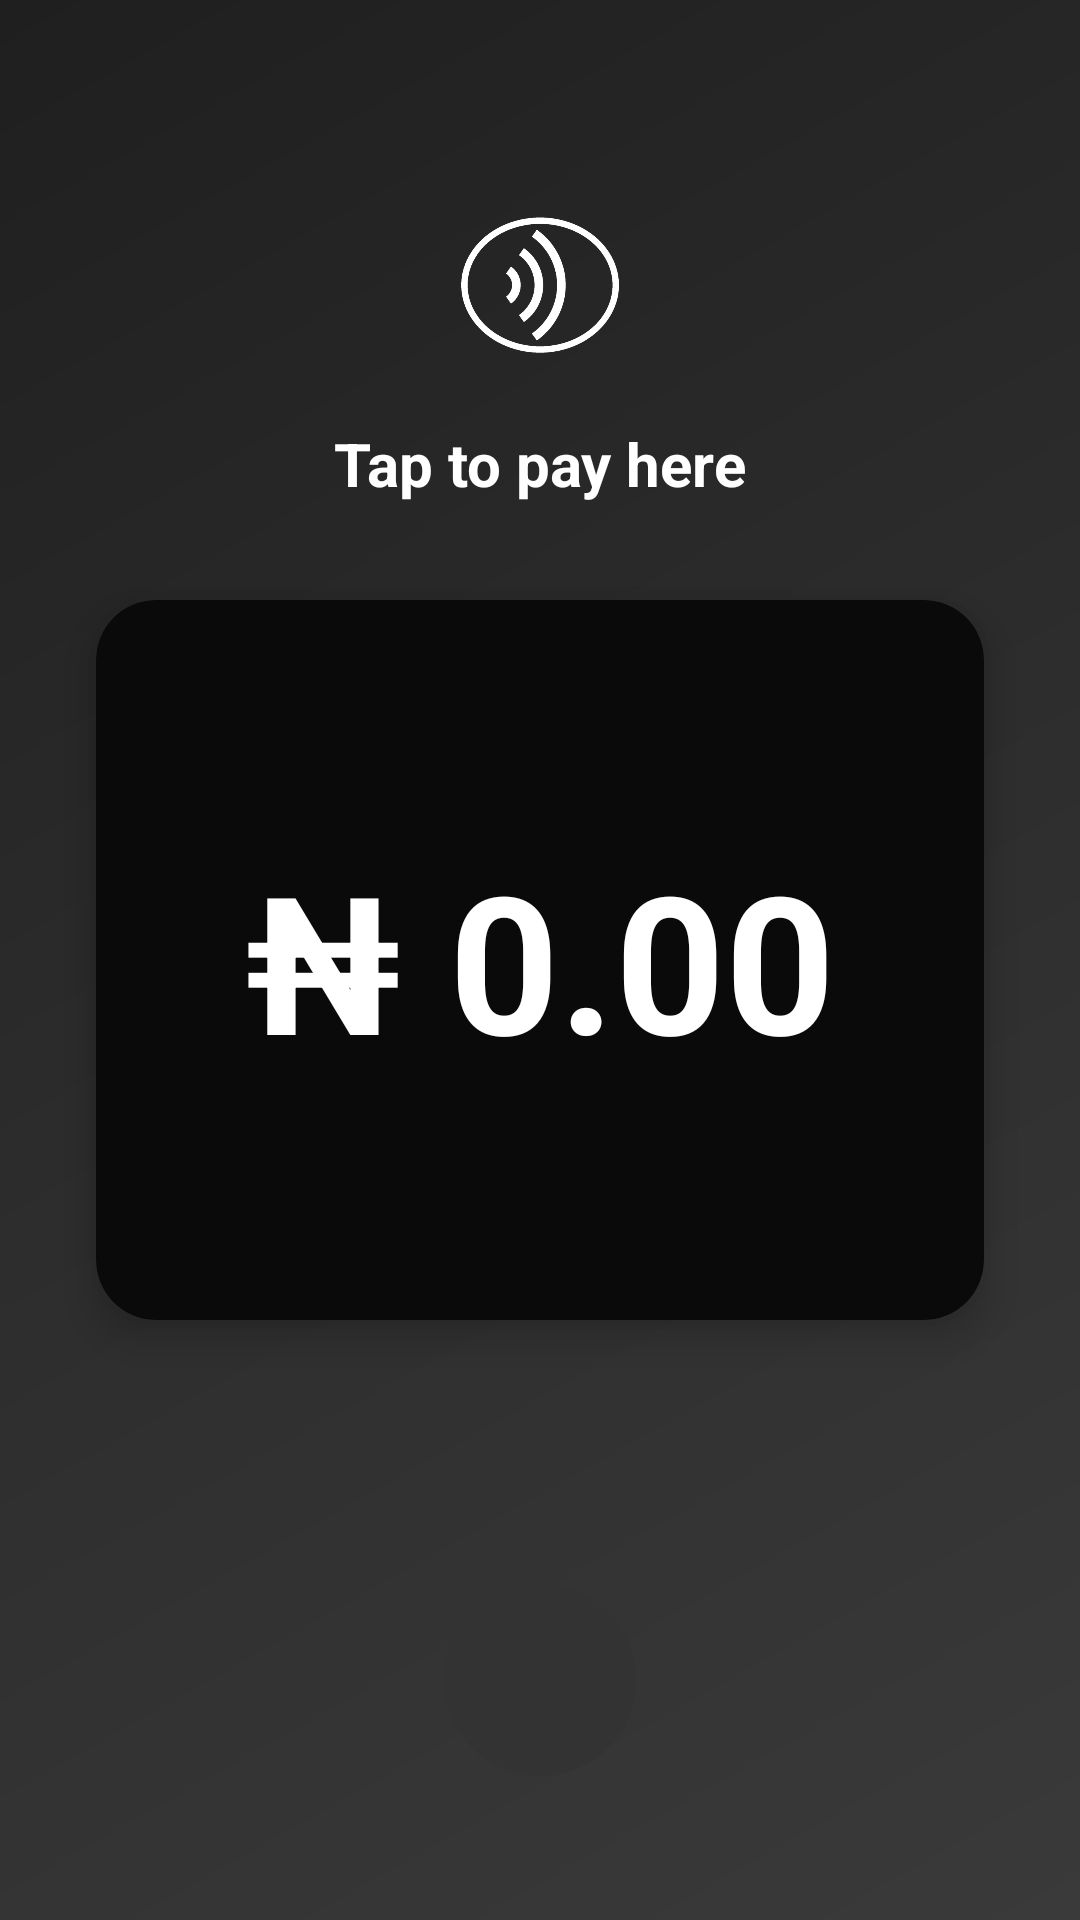

Screen size 1080px x 1920px. Icon name, then its box in pixels as (x1, y1, x2, y2):
EMV Contactless Payment: (461, 217, 619, 353)
